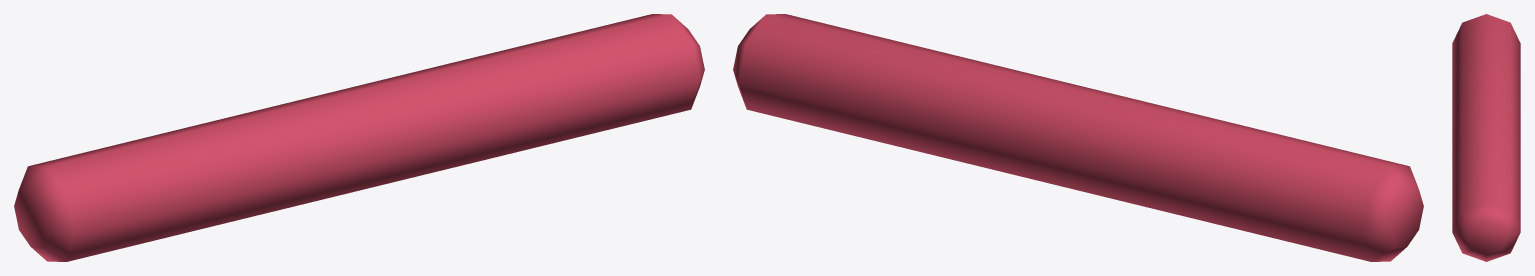
File: Rotating_Obj.fbx
The picture shows the model from 3 angles, left to right: view 1: azimuth 30°, elevation 25°; view 2: azimuth 150°, elevation 25°; view 3: azimuth 270°, elevation 25°; orthographic projection. The views are drawn at different scales.
Parts seen in each view (by area): view 1: Cylinder; view 2: Cylinder; view 3: Cylinder.
Boxes of the visible parts, x1,y1,x2,y2 form: Cylinder: [14, 14, 704, 261]; Cylinder: [733, 14, 1423, 261]; Cylinder: [1452, 14, 1520, 261].
Bounding box in the file's own units: 580 × 80 × 84.11.
